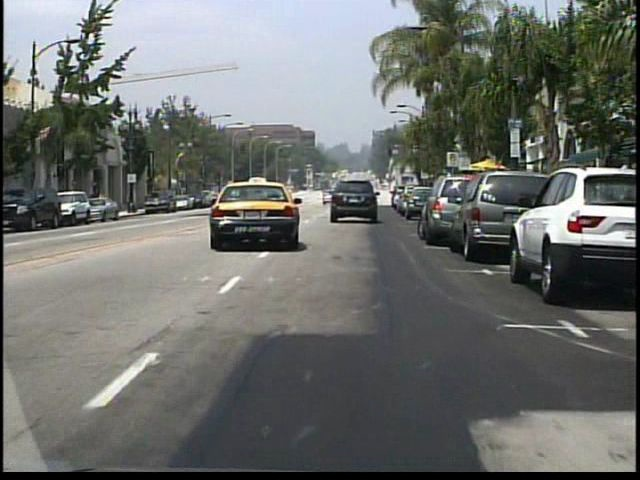person: (90, 187, 102, 215), (97, 189, 108, 215)
